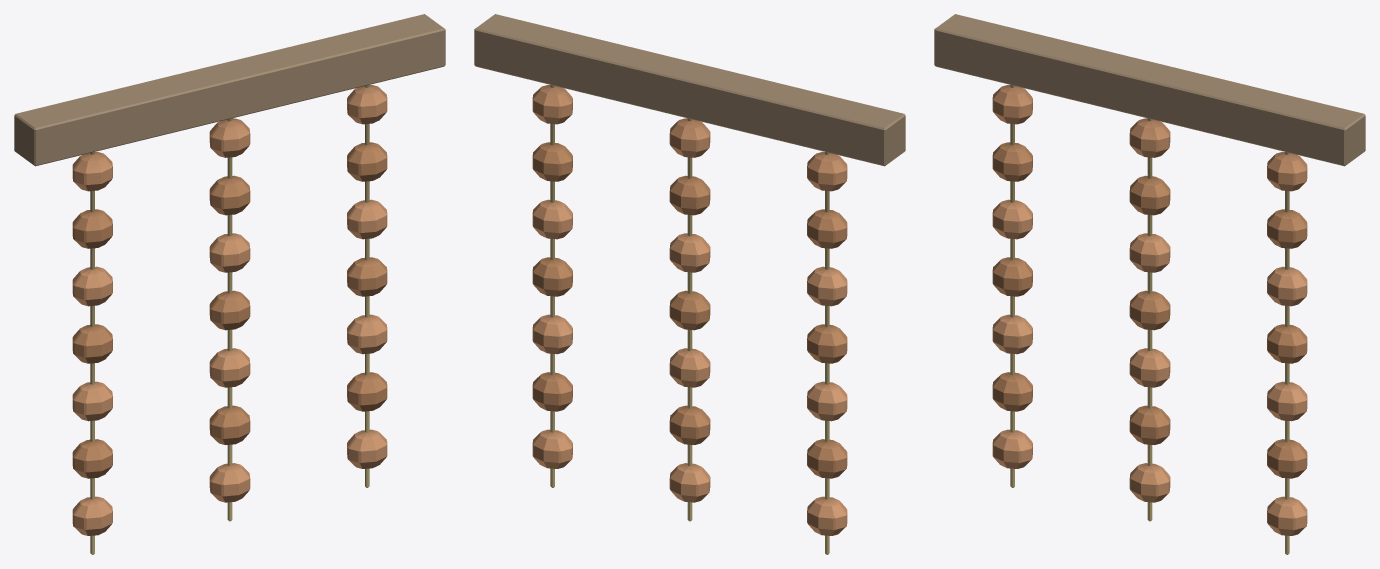
File: harvest_persimmon_string.glb
3 views of the same model, side by side, from view 1: azimuth 30°, elevation 25°; view 2: azimuth 150°, elevation 25°; view 3: azimuth 330°, elevation 25° (orthographic).
Size of the model in its own units: 0.9 by 0.94 by 0.08.
